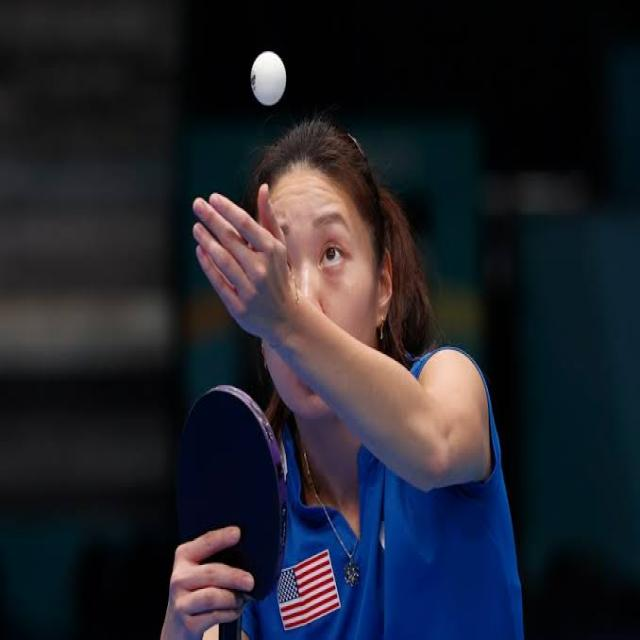TT Racket: (148, 350, 310, 621)
